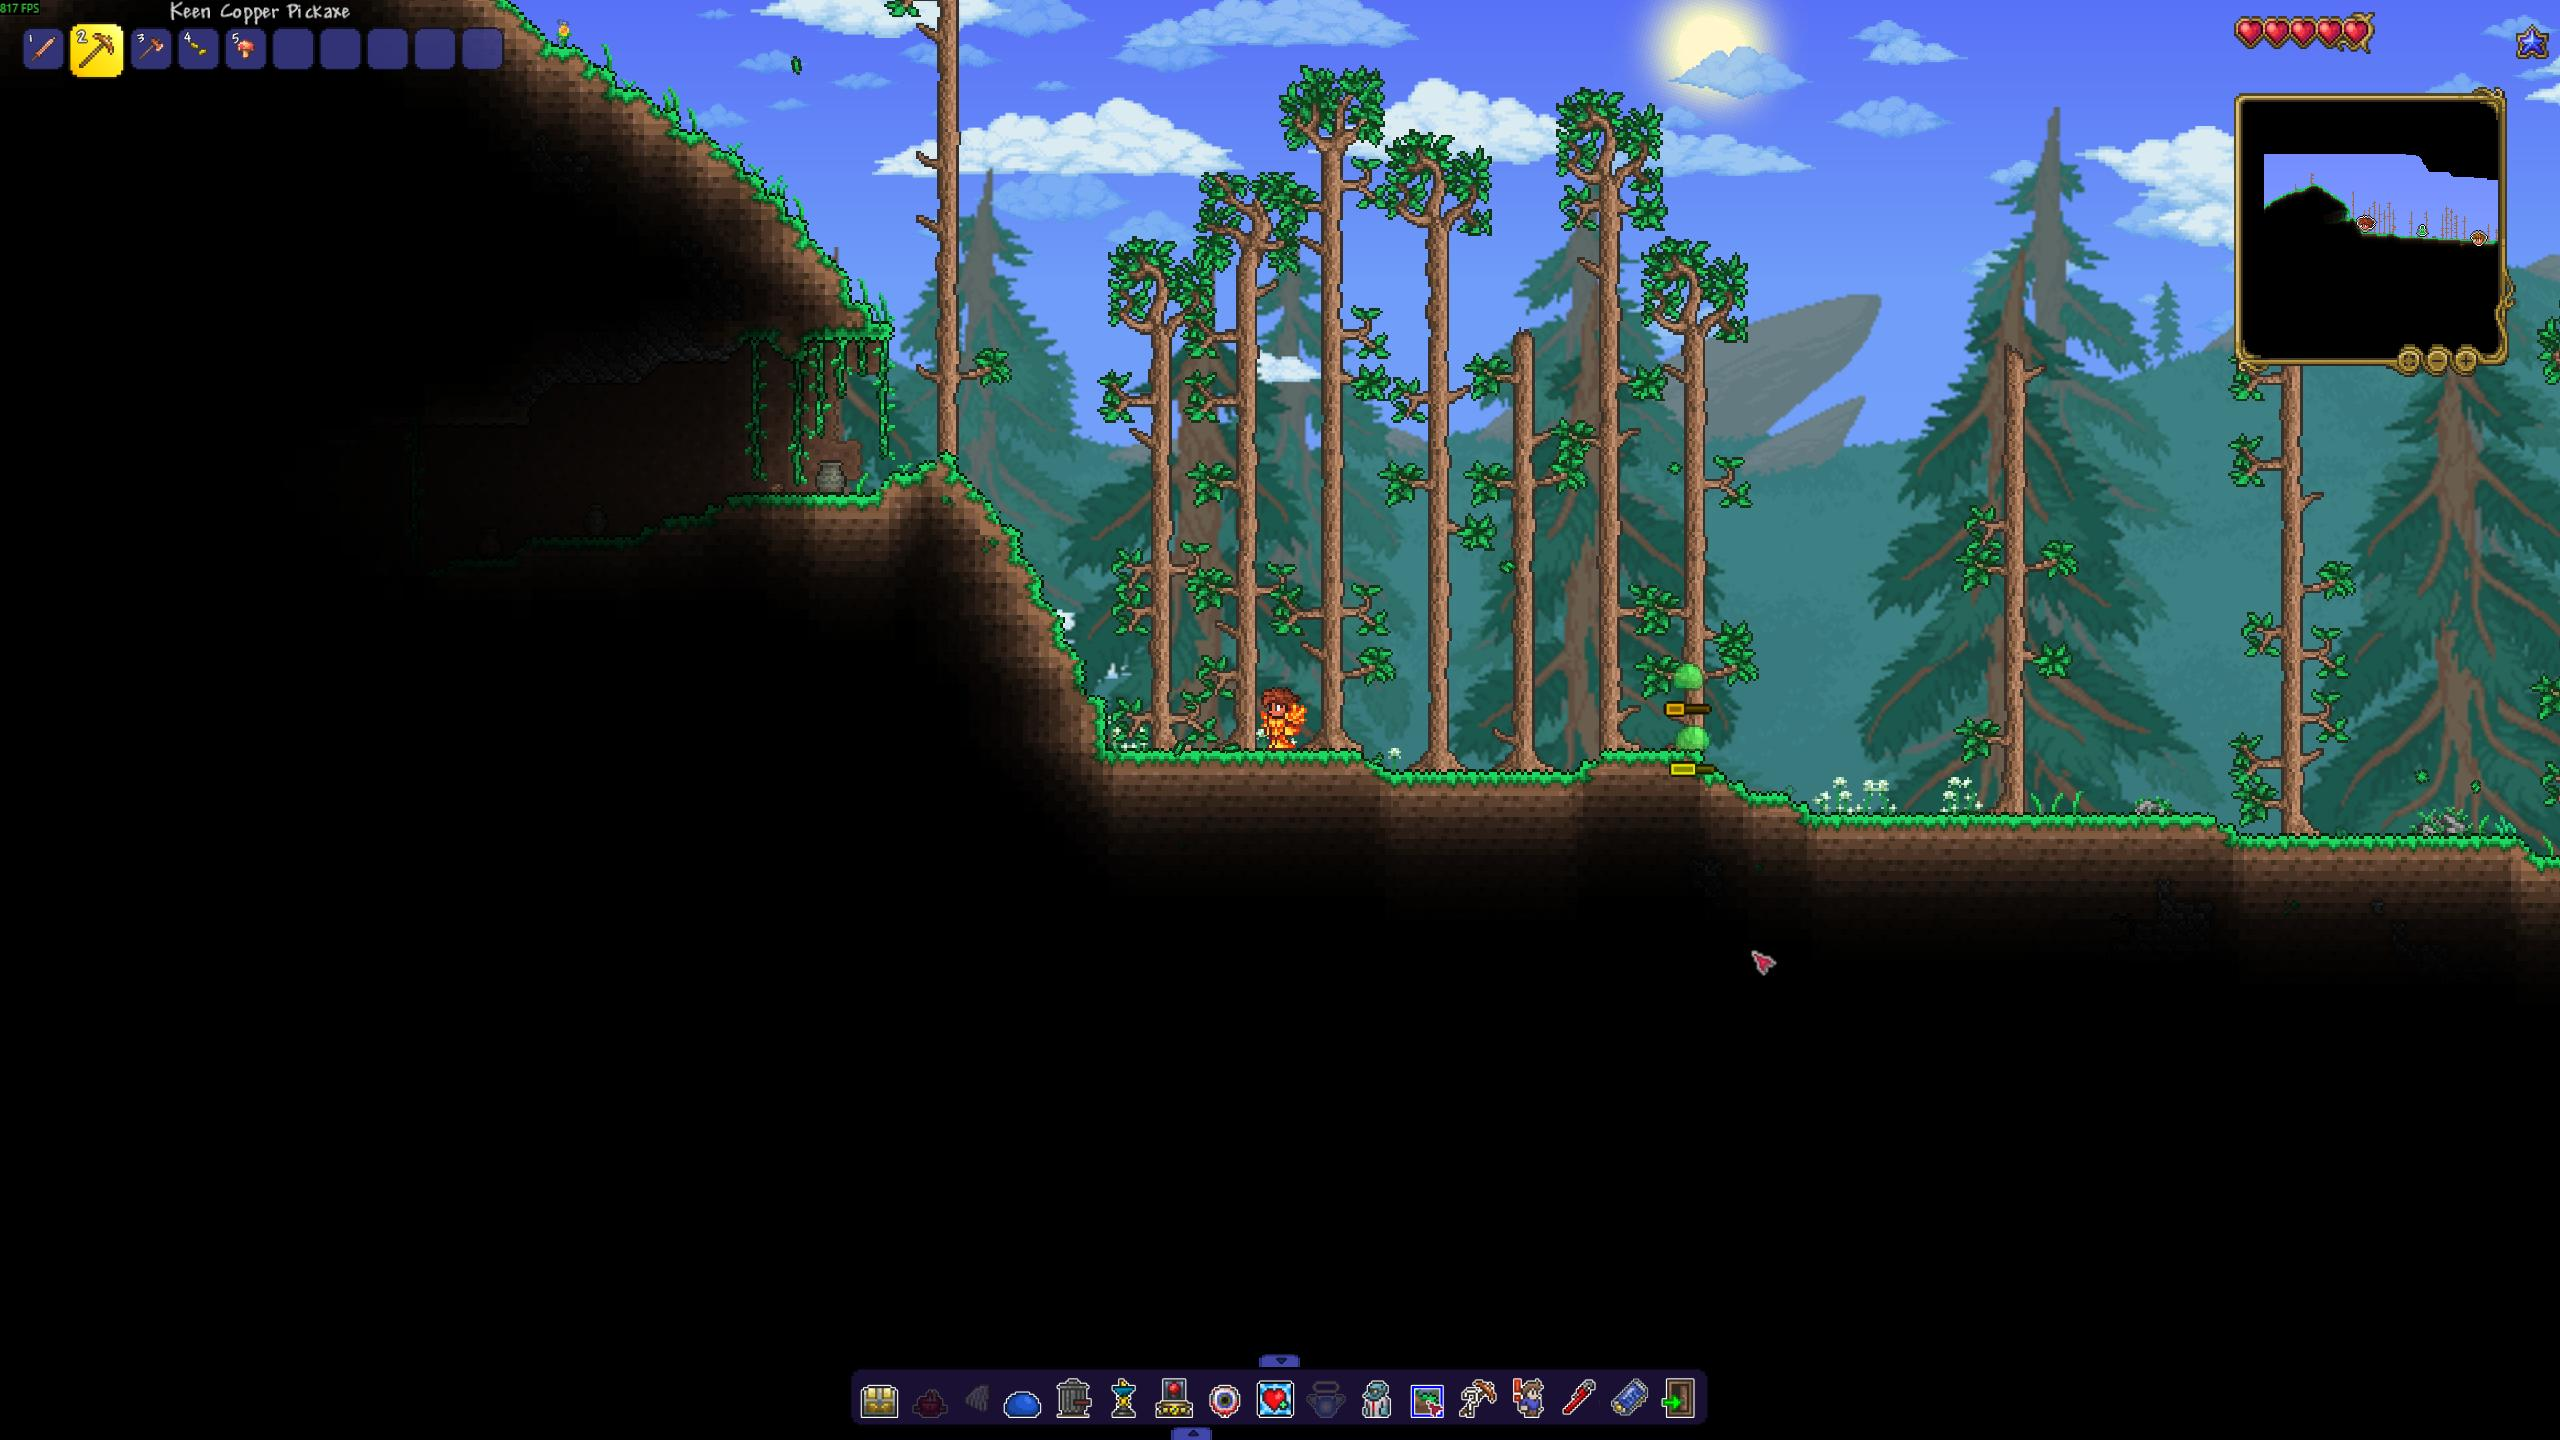Green Slime: (1676, 723, 1711, 753), (1670, 661, 1702, 691)
